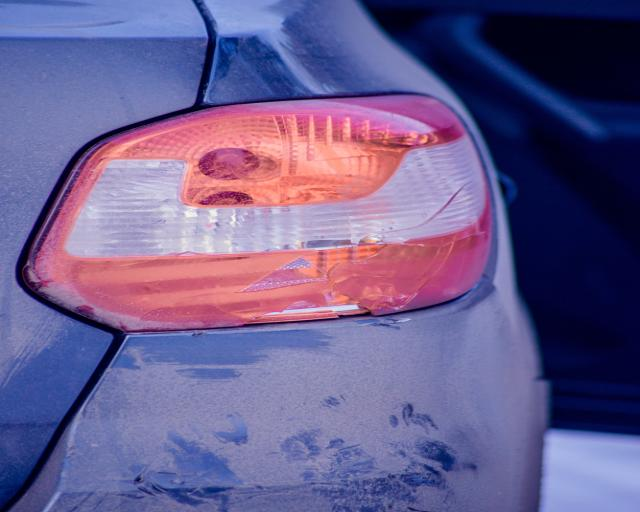lamp broken: (21, 93, 498, 332)
